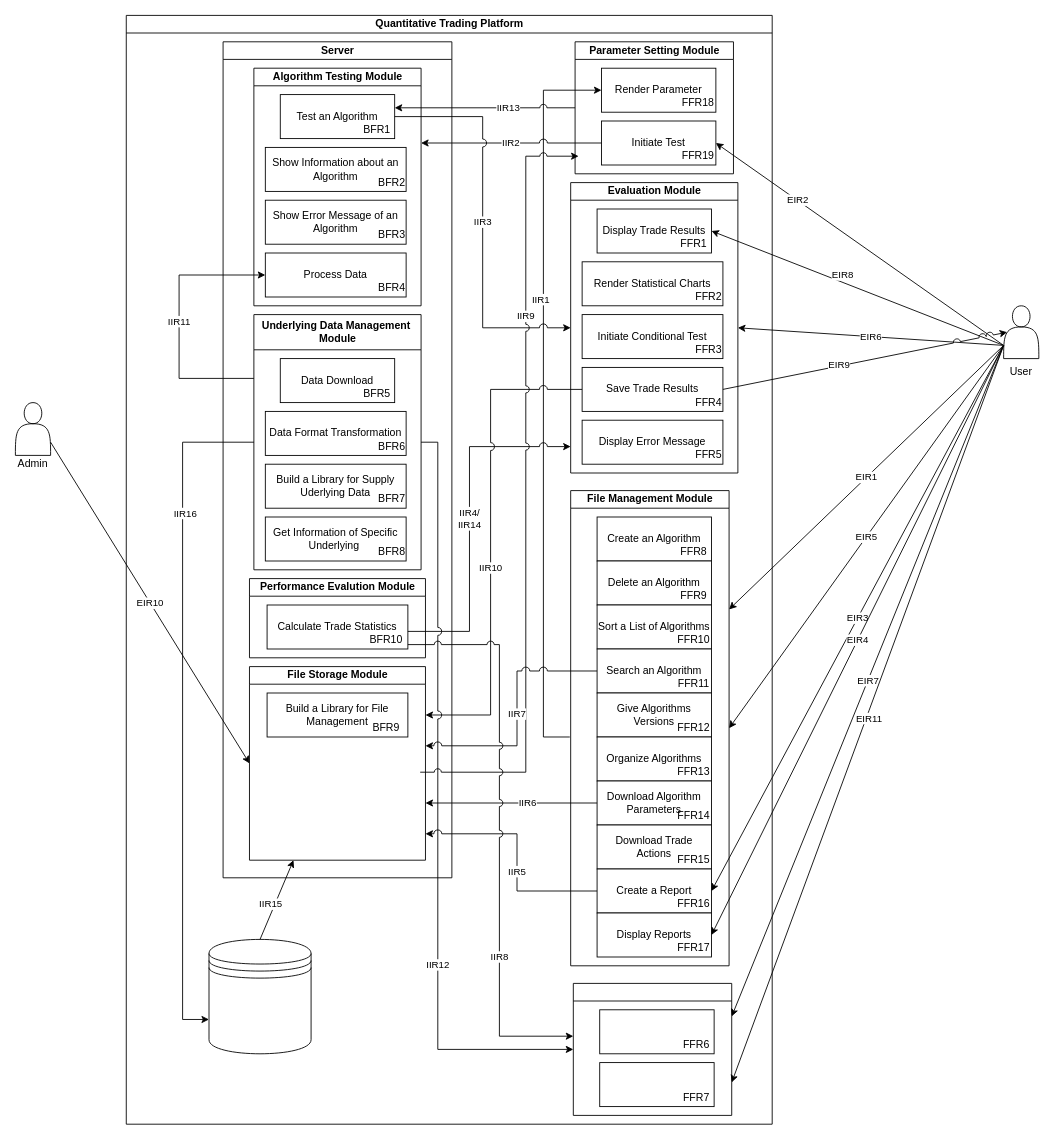
This 1054x1140 diagram has some shape labels left out. Here are the shapes that lost their labels. From the top down, the box of each, then its label:
(208, 939, 311, 1054): Storage
(572, 983, 732, 1115): Conditional Testing Module
(599, 1009, 714, 1054): Perform Pivot Table Analysis
(599, 1062, 714, 1107): Add New Columns to Pivot Table
